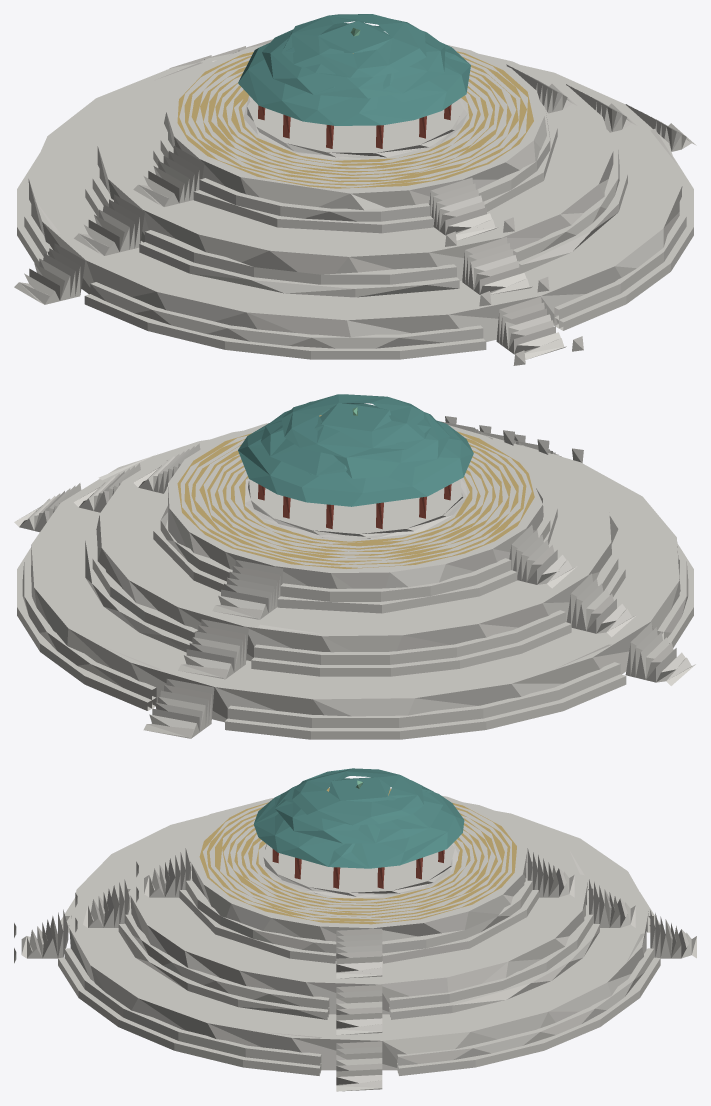
File: lib_thien_dan.vc2.glb
3 views of the same model, one above another, from view 1: azimuth 30°, elevation 25°; view 2: azimuth 150°, elevation 25°; view 3: azimuth 270°, elevation 25° (orthographic). The views are drawn at different scales.
Visible parts, largest first — view 1: lib_thien_dan; view 2: lib_thien_dan; view 3: lib_thien_dan.
Part boxes in pixels (bbox=[...]): lib_thien_dan: bbox=[14, 14, 696, 365]; lib_thien_dan: bbox=[14, 394, 695, 739]; lib_thien_dan: bbox=[14, 768, 696, 1091].
Size of the model in its own units: 44.12 by 12.12 by 44.62.
